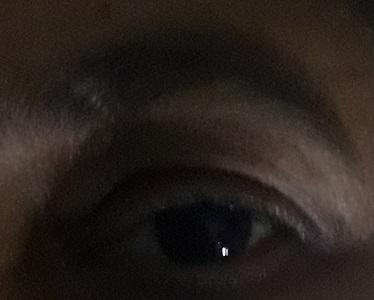open: (75, 139, 374, 300)
